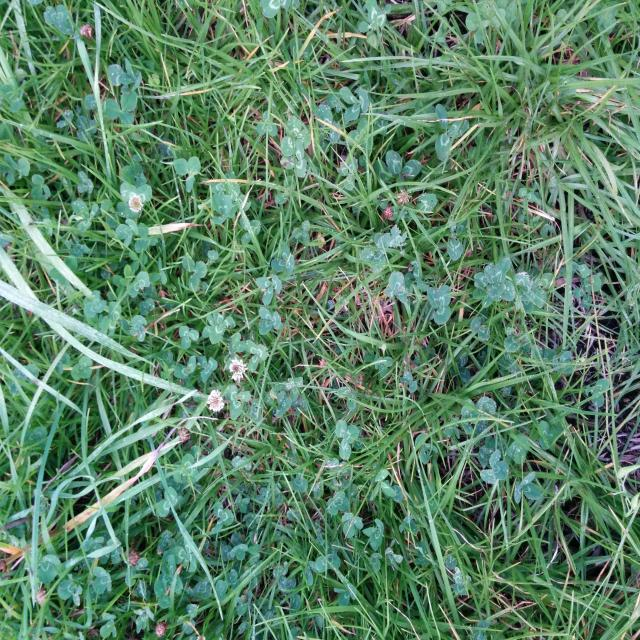Four Leaf Clover: (474, 257, 515, 302)
